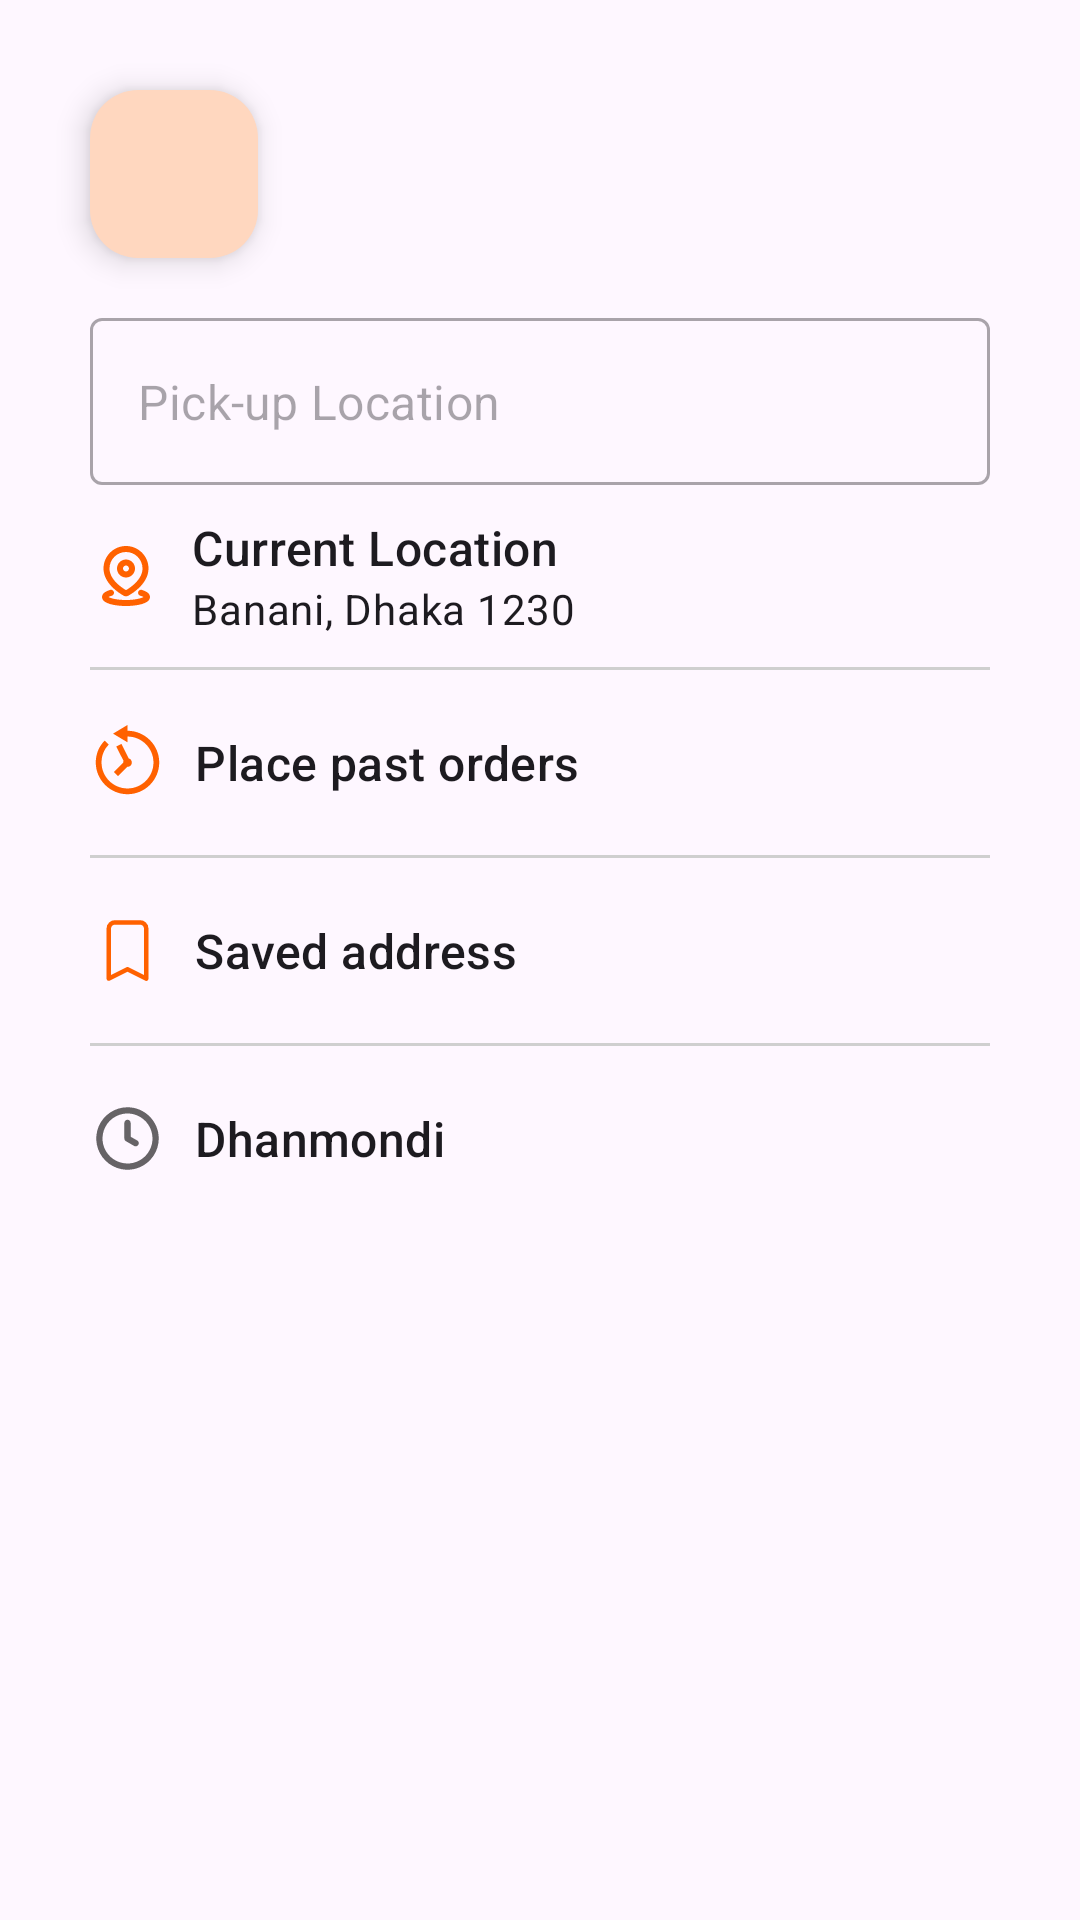

Named icons in this screenshot (1080px x 1920px) and their bounding boxes, (x1, y1, x2, y2):
bookmark: (106, 920, 149, 981)
clock history: (96, 1107, 159, 1170)
